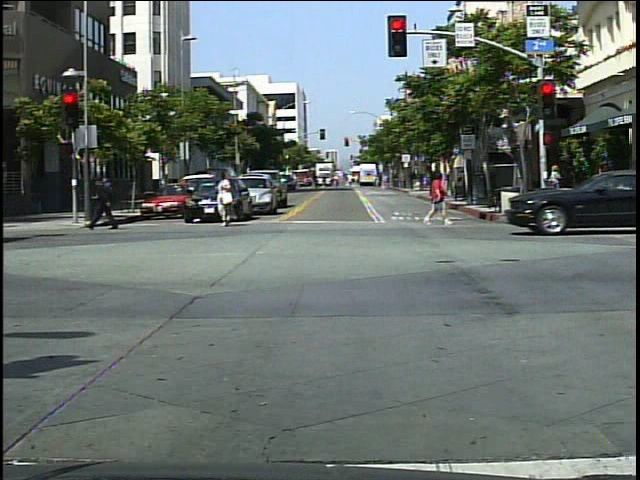person: (214, 167, 245, 231), (92, 168, 119, 234), (424, 167, 453, 228), (549, 164, 565, 191)
